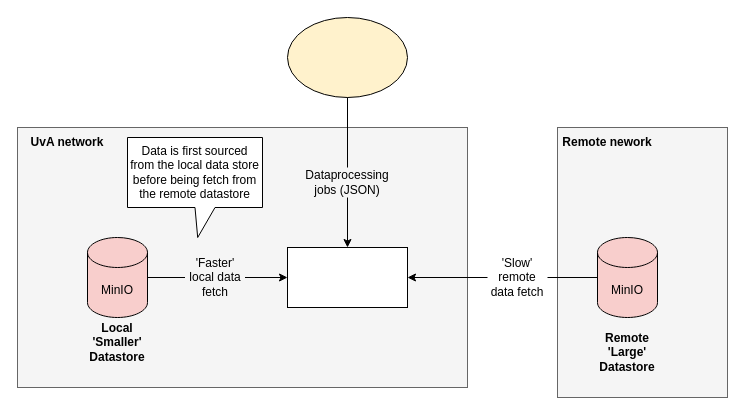
Some shapes in this 745 by 415 pixel diagram are drawn without their labels. Each missing label, with the centre of its shape:
"Argo Workflow controller" belongs at [347,277].
"External Client" belongs at [347,57].
